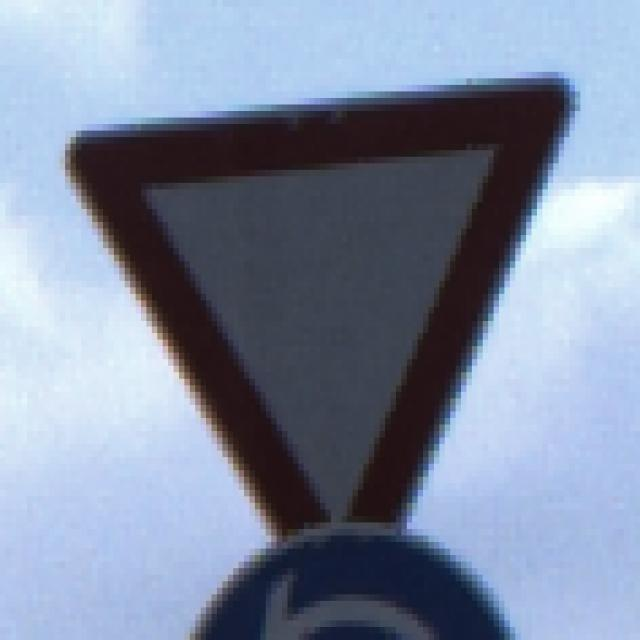Give Way: (61, 60, 587, 589)
